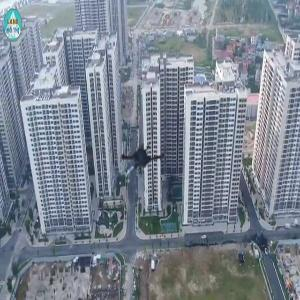drone: (110, 132, 170, 192)
